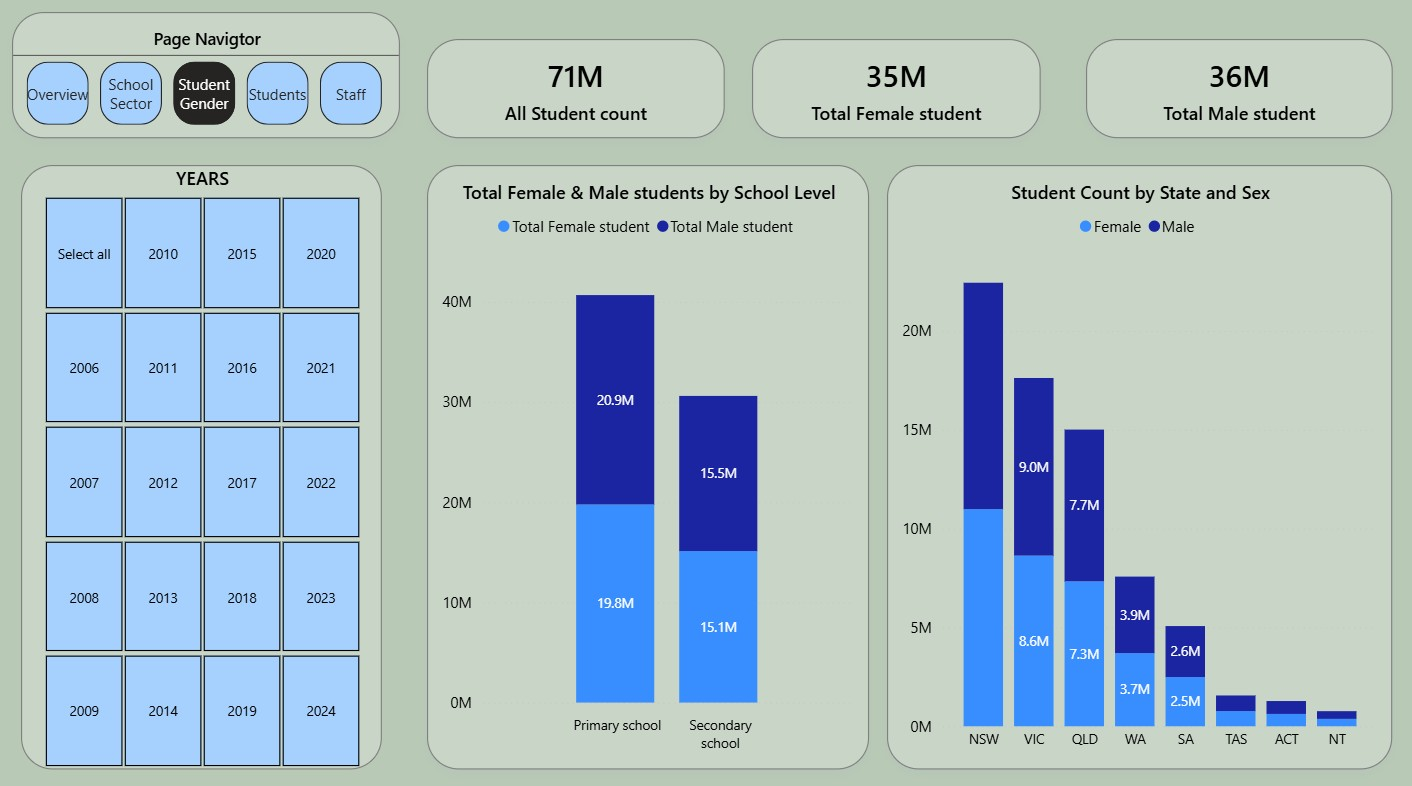

What the dashboard file says about the page in this screenshot:
{"tool":"powerbi","page":{"name":"Student Gender","canvas":[1280,720],"ordinal":3},"visuals":[{"type":"columnChart","title":"Student Count by State and Sex","fields":{"Y":["Sum(Students.All Student count)"],"Category":["DimState.State"],"Series":["Students.Sex"]},"box":[792,152,448,536],"z":0},{"type":"card","fields":{"Values":["All Measures.Total Female student"]},"box":[672,40,256,88],"z":1000},{"type":"card","fields":{"Values":["All Measures.Total Male student"]},"box":[968,40,272,88],"z":2000},{"type":"columnChart","title":"Total Female & Male students by School Level","fields":{"Y":["All Measures.Total Female student","All Measures.Total Male student"],"Category":["DimSchoolLevel.School Level"]},"box":[384,152,392,536],"z":3000},{"type":"slicer","title":"YEARS","fields":{"Values":["DimDates.Year"]},"box":[24,152,320,536],"z":4000},{"type":"card","fields":{"Values":["All Measures.All Student count"]},"box":[384,40,264,88],"z":6000},{"type":"pageNavigator","title":"Page Navigtor","box":[8,8,344,128],"z":6001}]}

Visuals, with their boxes in screenshot pixels (x1, y1, x2, y2), scaled from the page's 1280x720 canvas onto the 1412x786 screenshot:
"Student Count by State and Sex" columnChart: region(874, 166, 1368, 751)
card - All Measures.Total Female student: region(741, 44, 1024, 140)
card - All Measures.Total Male student: region(1068, 44, 1368, 140)
"Total Female & Male students by School Level" columnChart: region(424, 166, 856, 751)
"YEARS" slicer: region(26, 166, 379, 751)
card - All Measures.All Student count: region(424, 44, 715, 140)
"Page Navigtor" pageNavigator: region(9, 9, 388, 148)
